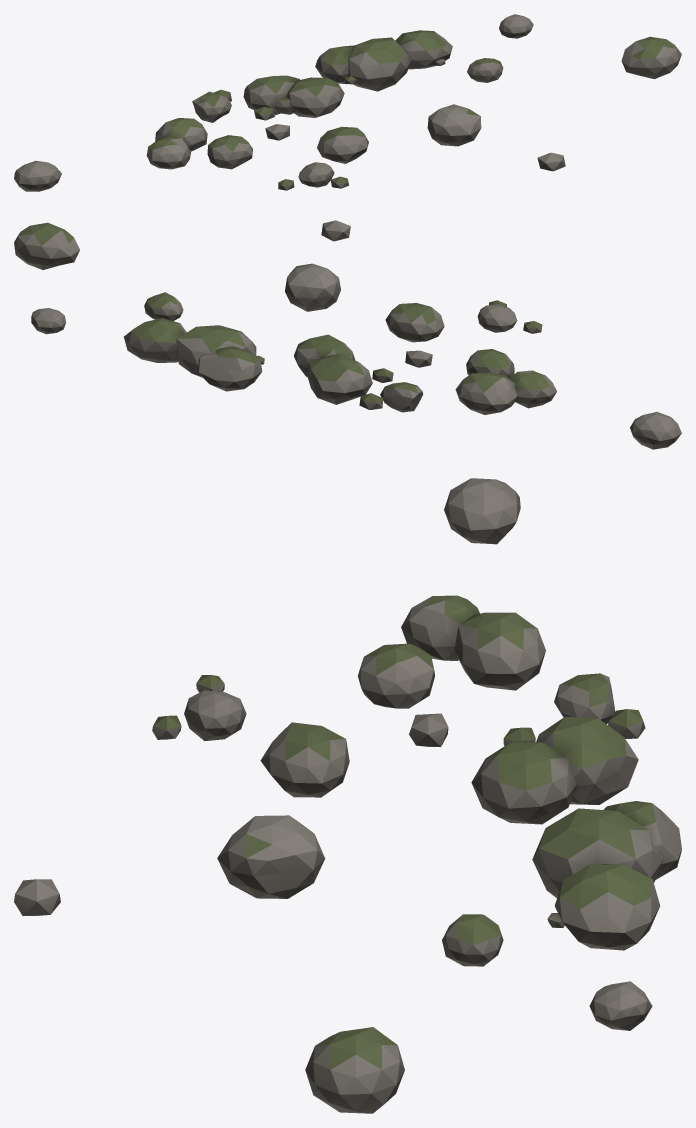
File: cave_scree.glb
3 views of the same model, one above another, from view 1: azimuth 30°, elevation 25°; view 2: azimuth 150°, elevation 25°; view 3: azimuth 270°, elevation 25° (orthographic). The views are drawn at different scales.
Parts seen in each view (by area): view 1: cave_scree_LOD0; view 2: cave_scree_LOD0; view 3: cave_scree_LOD0.
Boxes of the visible parts, <box> form: cave_scree_LOD0: <box>14,14,681,191</box>; cave_scree_LOD0: <box>14,220,681,449</box>; cave_scree_LOD0: <box>14,478,681,1113</box>.
Size of what is drawn, in the model's own units: 3.73 by 0.239 by 1.74.
